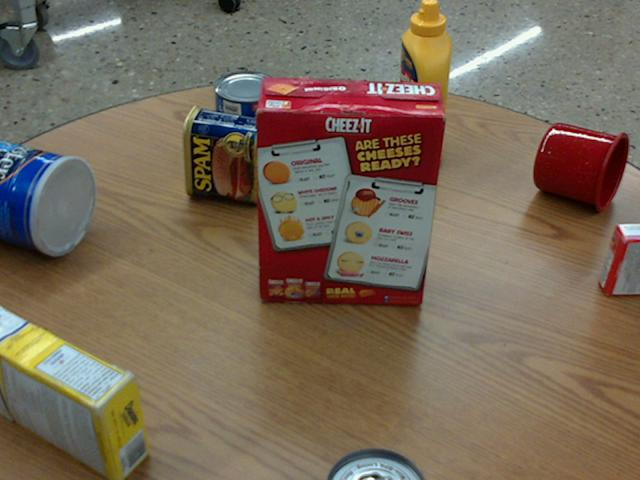cracker_box: (255, 77, 447, 302)
gelatin_box: (601, 226, 639, 297)
master_chef_can: (0, 139, 98, 255)
mug: (534, 123, 628, 212)
mustard_bottle: (394, 0, 452, 164)
potted_meat_can: (183, 103, 269, 201)
sugar_box: (0, 303, 149, 479)
tomato_soup_can: (328, 447, 427, 479)
tuna_fish_can: (215, 69, 281, 122)
